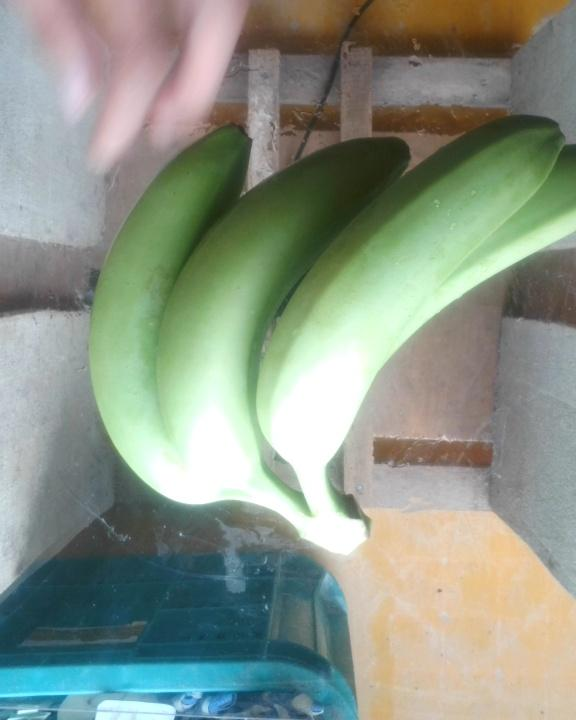SPOT: (81, 112, 576, 555)
